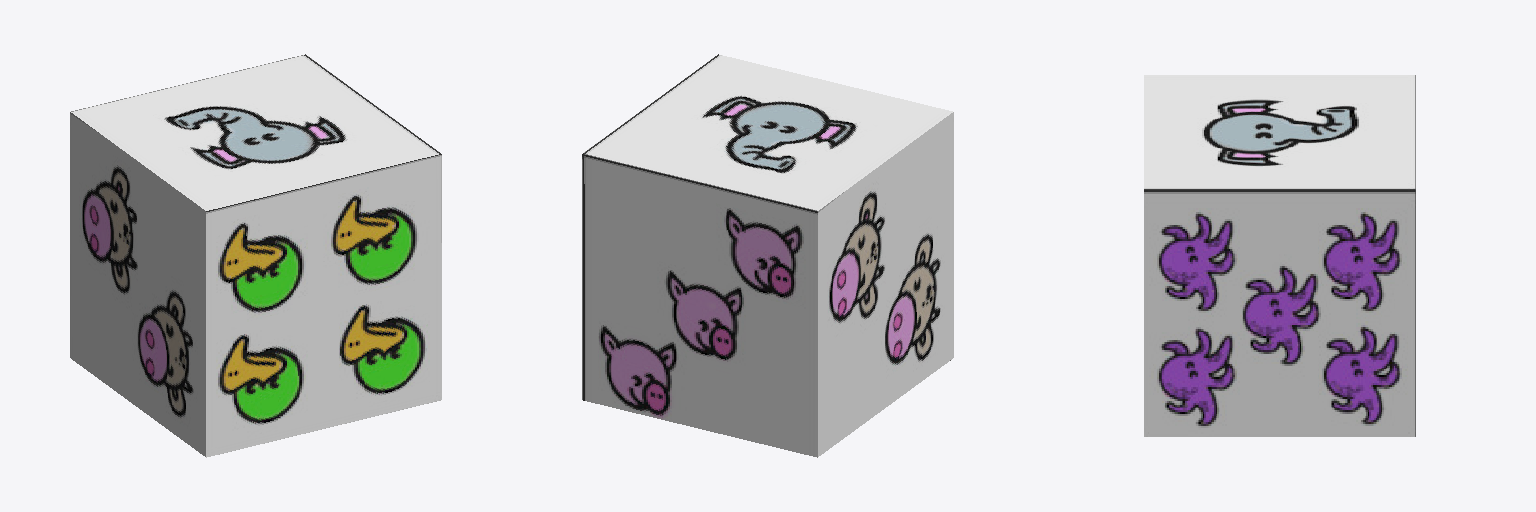
3 views of the same model, side by side, from view 1: azimuth 30°, elevation 25°; view 2: azimuth 150°, elevation 25°; view 3: azimuth 270°, elevation 25° (orthographic).
Visible parts, largest first — view 1: Box001; view 2: Box001; view 3: Box001.
Part boxes in pixels (x1,y1,x2,y2): Box001: (70,54,441,457); Box001: (582,54,953,457); Box001: (1144,75,1415,436).
Bounding box in the file's own units: 10 × 10 × 10.
Materials: 1 (1 with a texture image).